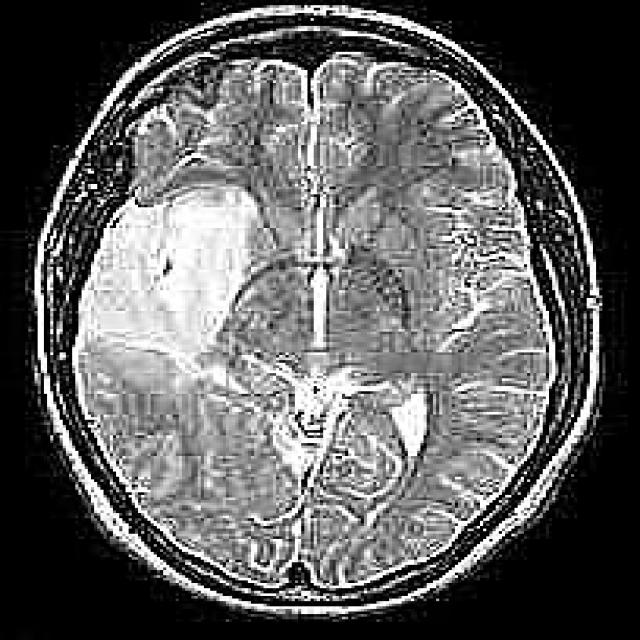Tumor-Cell: (92, 168, 262, 422)
